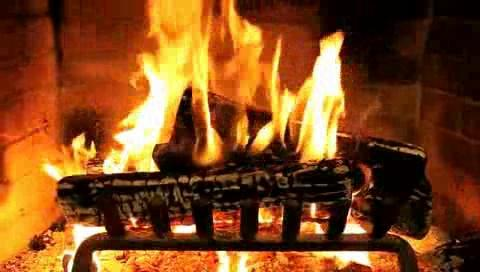fire: (41, 5, 412, 272)
